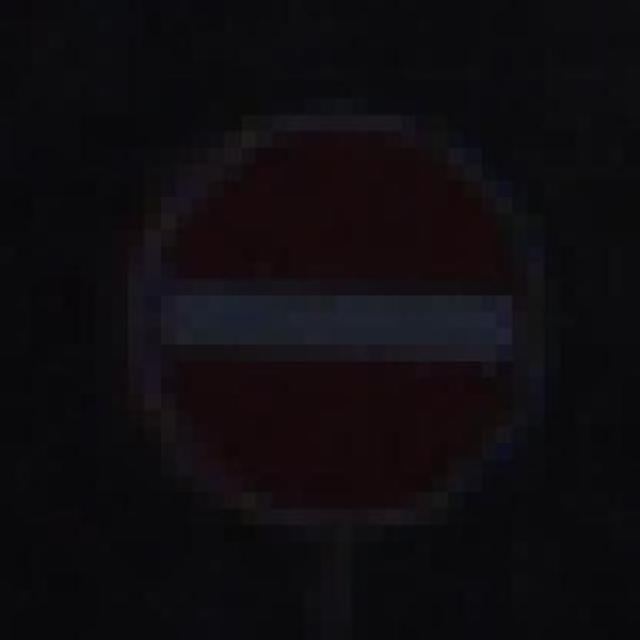B2: (120, 109, 552, 528)
